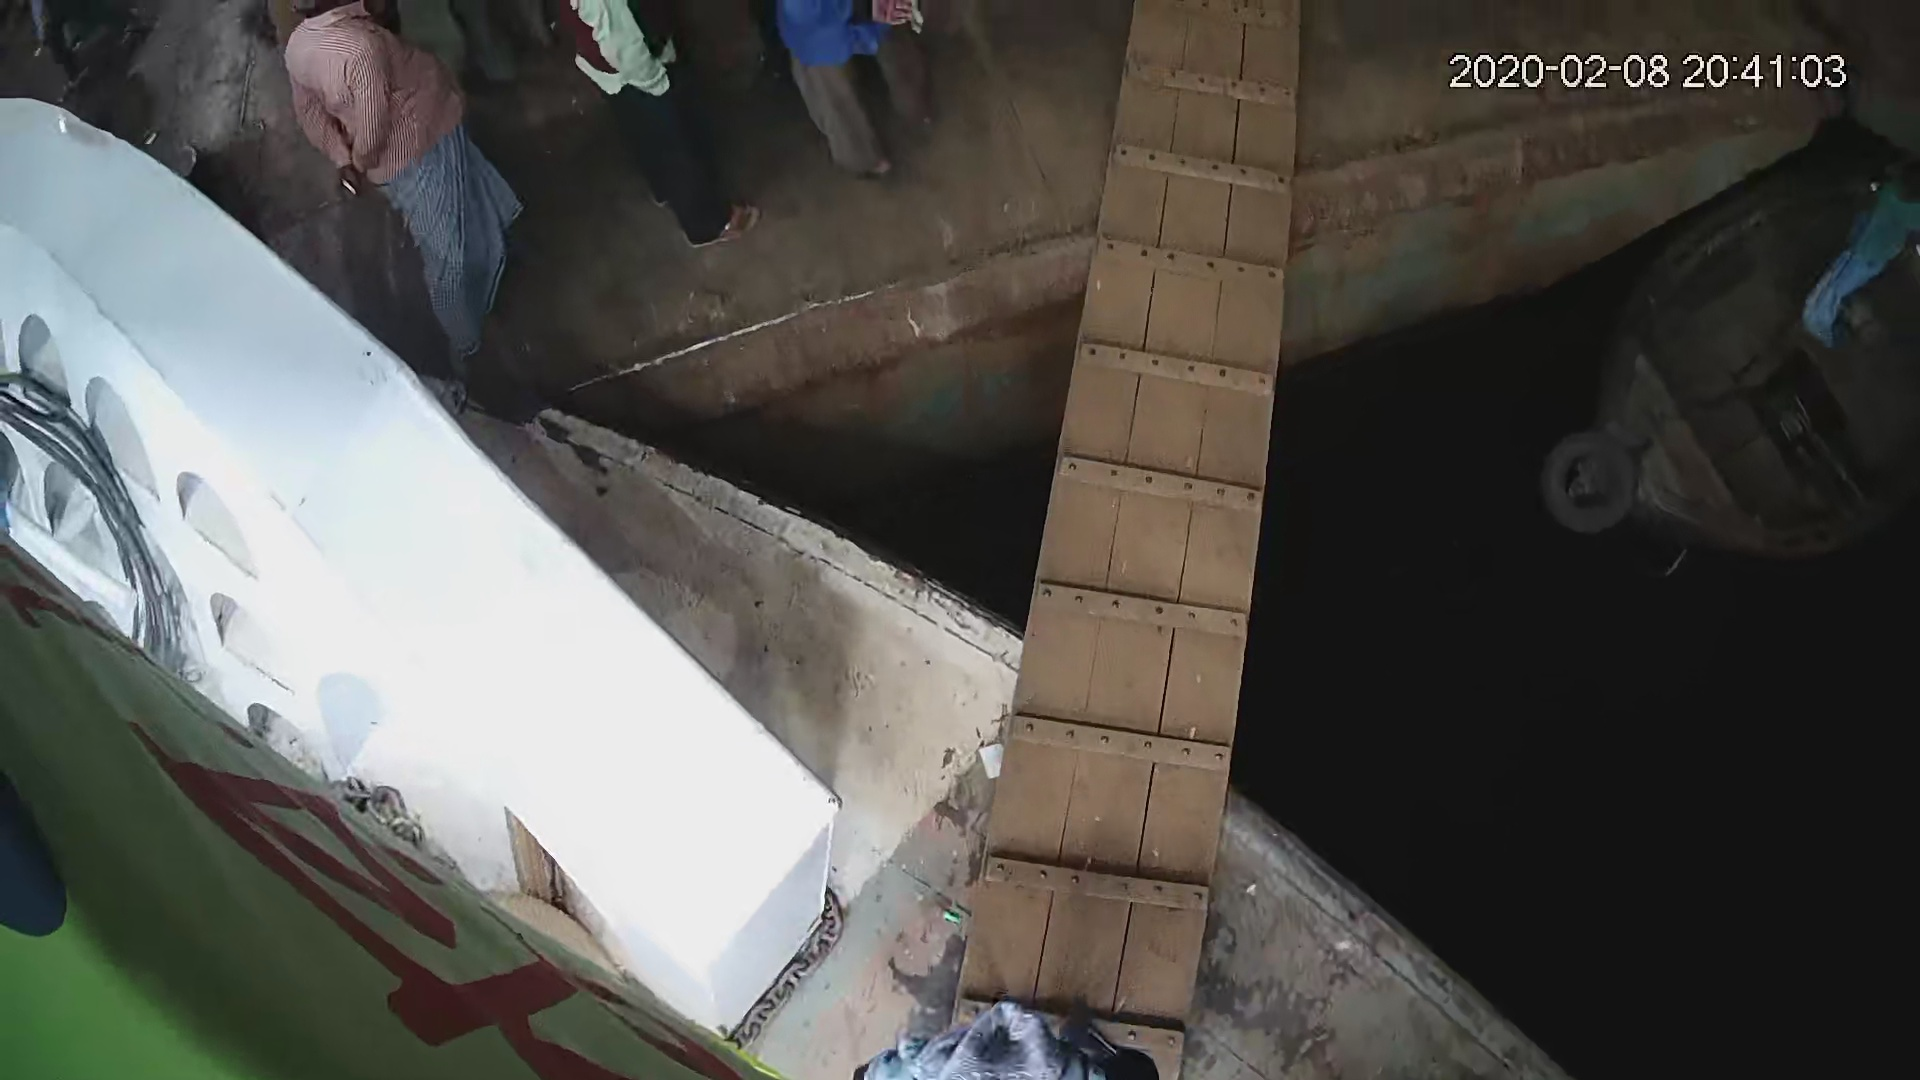person: (269, 1, 519, 384), (549, 1, 746, 272)
